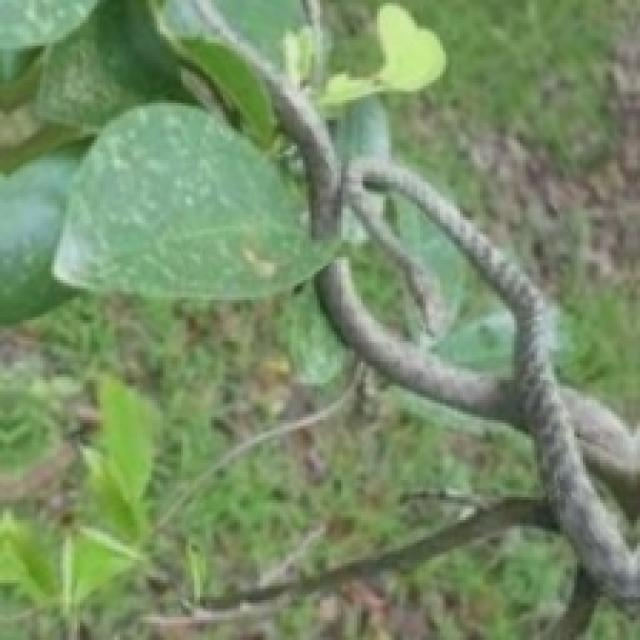philippine whip snake: (191, 0, 637, 603), (317, 160, 637, 600)
